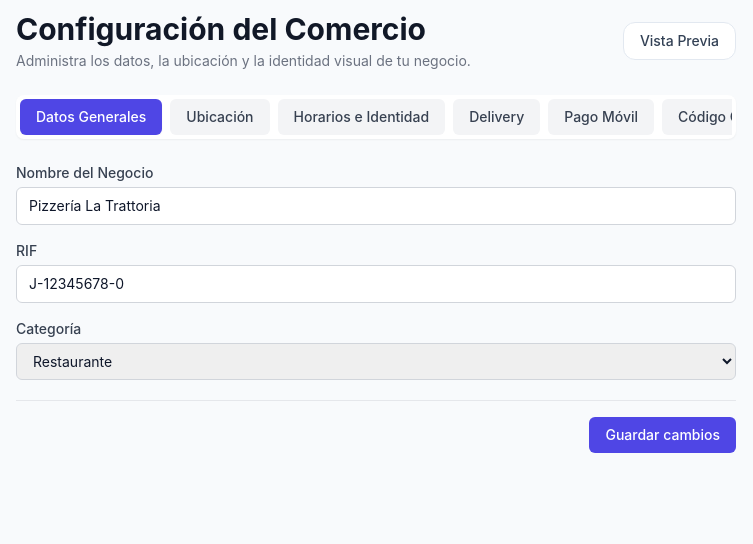
it: MerchantSettingsPage › precarga los datos de Pago Móvil existentes en la pestaña Pagos
The image size is (753, 544).
Click the button "Pago Móvil".
click(601, 117)  # box [548,99,654,135]
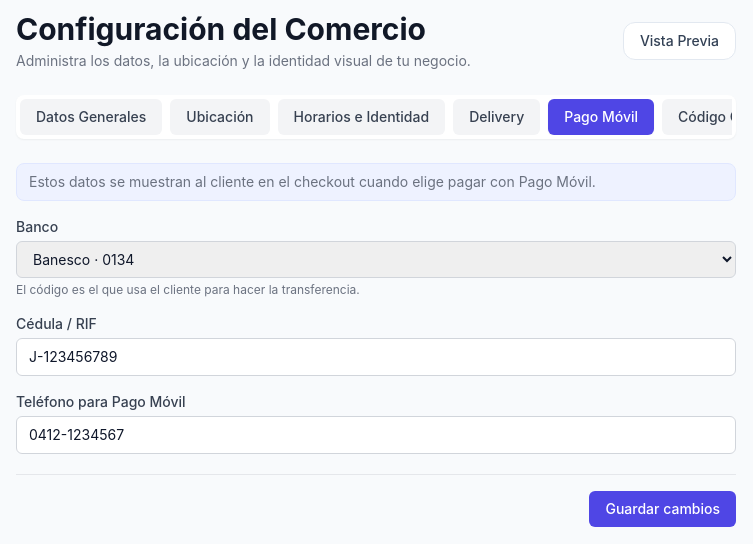
Check: the dropdown labelled "Banco" shows "Banesco · 0134", box [16,241,736,278]
Check: the field showing "J-123456789" is shown, box [16,338,736,376]
Check: the field showing "0412-1234567" is shown, box [16,416,736,454]
